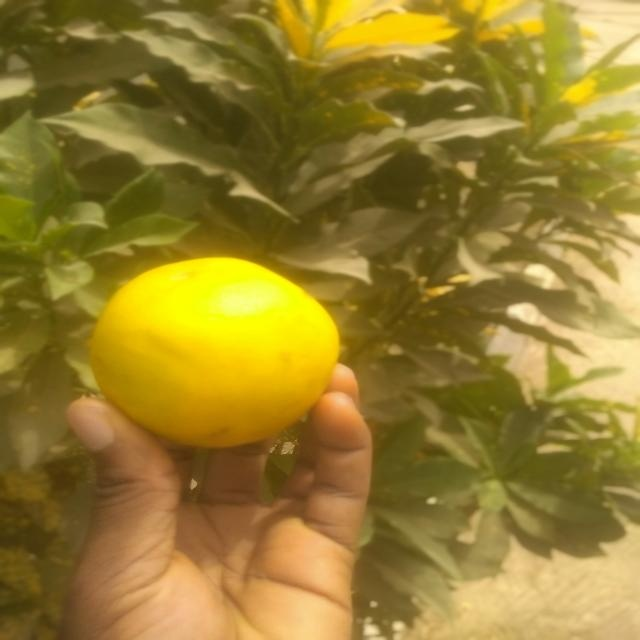agrume: (89, 247, 350, 445)
